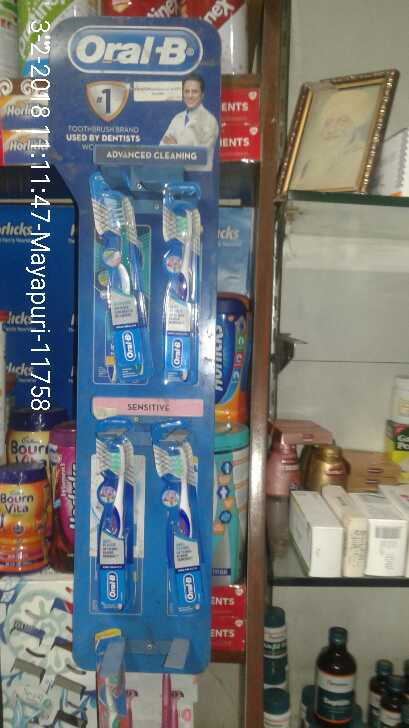oralb: (80, 177, 145, 382), (157, 179, 201, 380), (166, 448, 211, 615), (104, 417, 134, 617)
